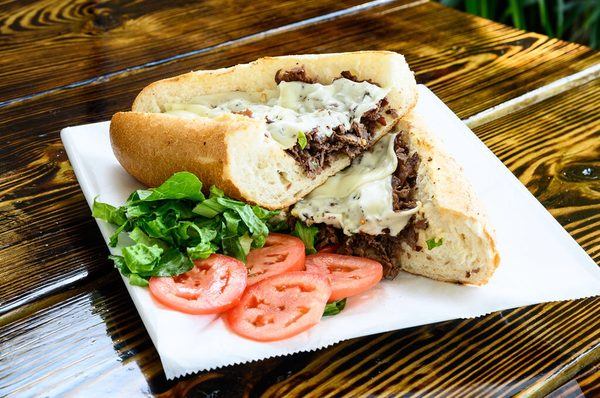soup: (110, 52, 502, 288)
